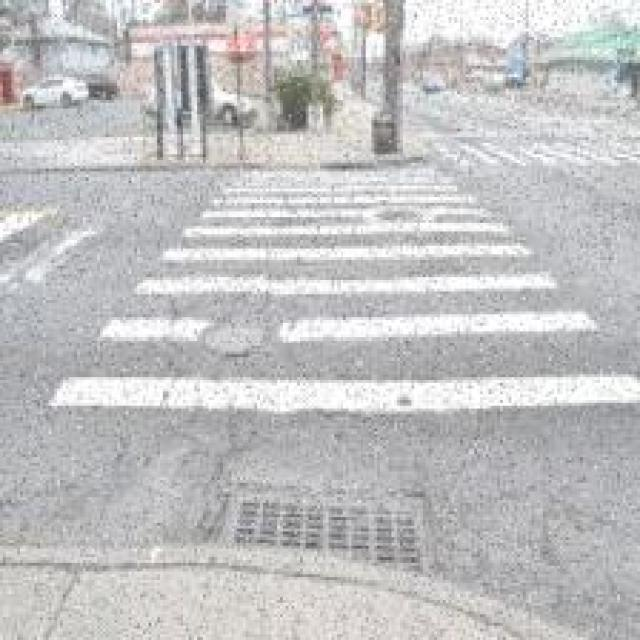crosswalk: (53, 145, 639, 409)
